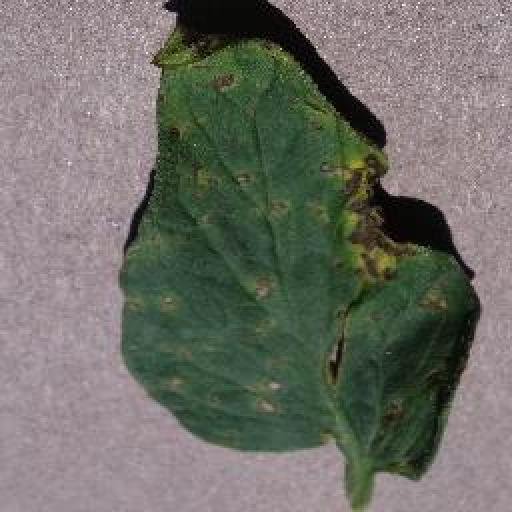Septoria: (116, 23, 483, 484)
